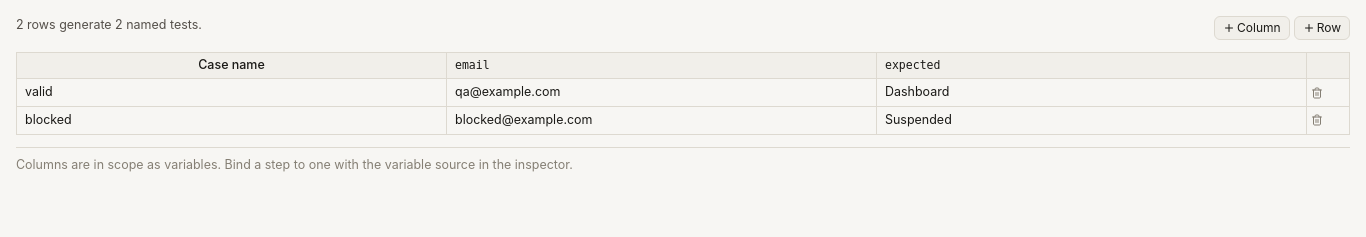
Scenario: editing rows and columns › reports the duplicate so the flow cannot silently break
Replace the text in the field named "Column 1 name" with "expected": (662, 66) x1=447 y1=53 x2=876 y2=78
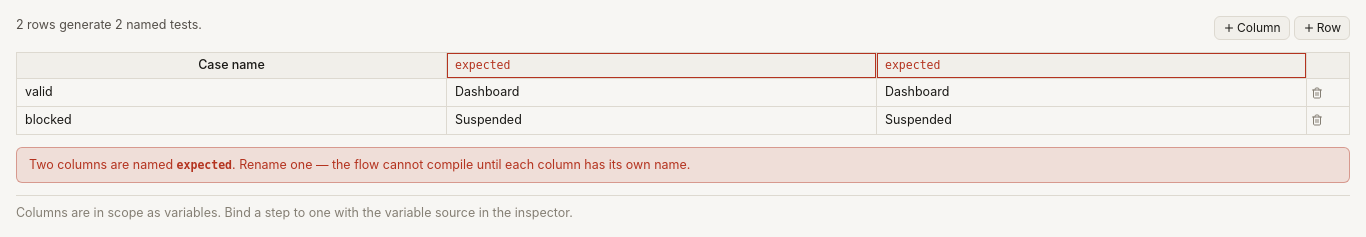
Now the list item "Two columns are named" is shown, box x1=29 y1=157 x2=177 y2=172
